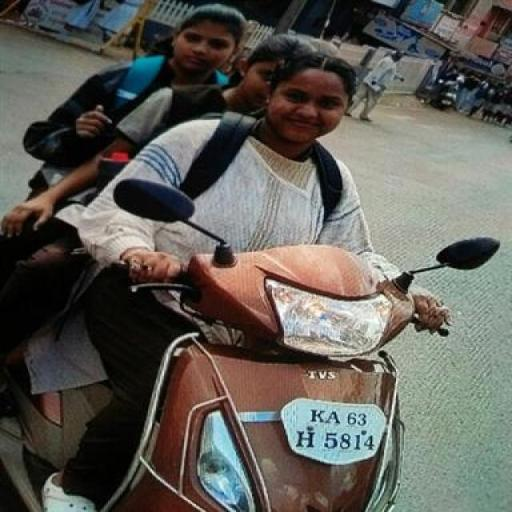tripple riding: (1, 5, 389, 257)
